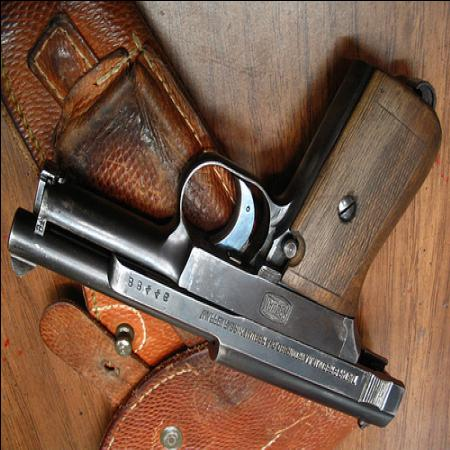Pistol: (6, 58, 440, 437)
